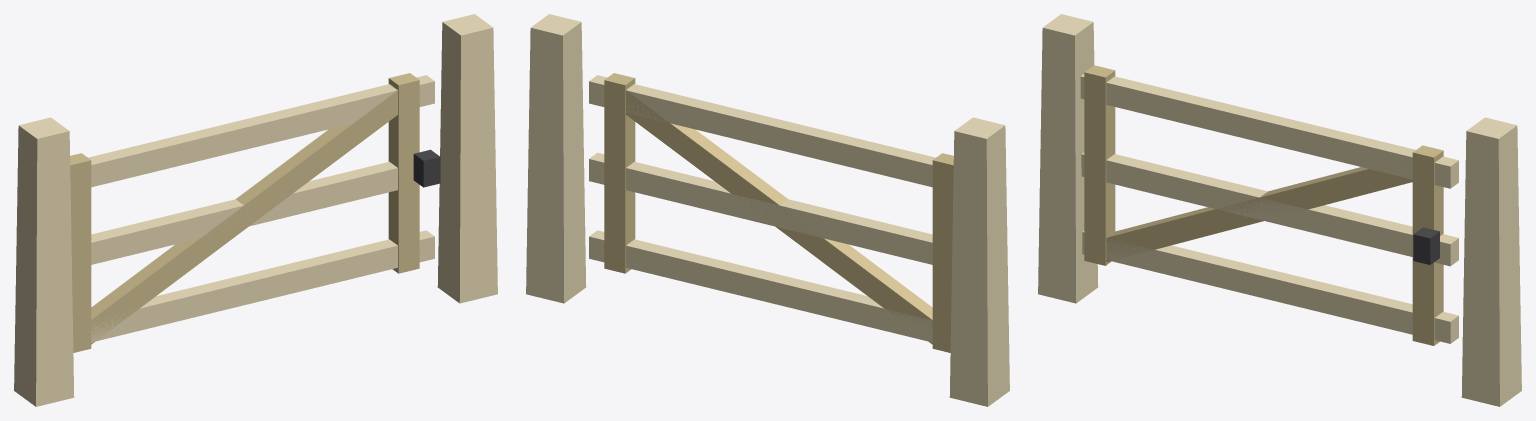
File: gate_picket.glb
The picture shows the model from 3 angles, left to right: view 1: azimuth 30°, elevation 25°; view 2: azimuth 150°, elevation 25°; view 3: azimuth 330°, elevation 25°; orthographic projection.
Visible parts, largest first — view 1: gate_picket; view 2: gate_picket; view 3: gate_picket.
Part boxes in pixels (left/top/right/bottom): gate_picket: left=14, top=14, right=497, bottom=406; gate_picket: left=526, top=14, right=1009, bottom=406; gate_picket: left=1038, top=14, right=1521, bottom=406.
Size of what is drawn, in the model's own units: 2.18 by 1.2 by 0.23.
